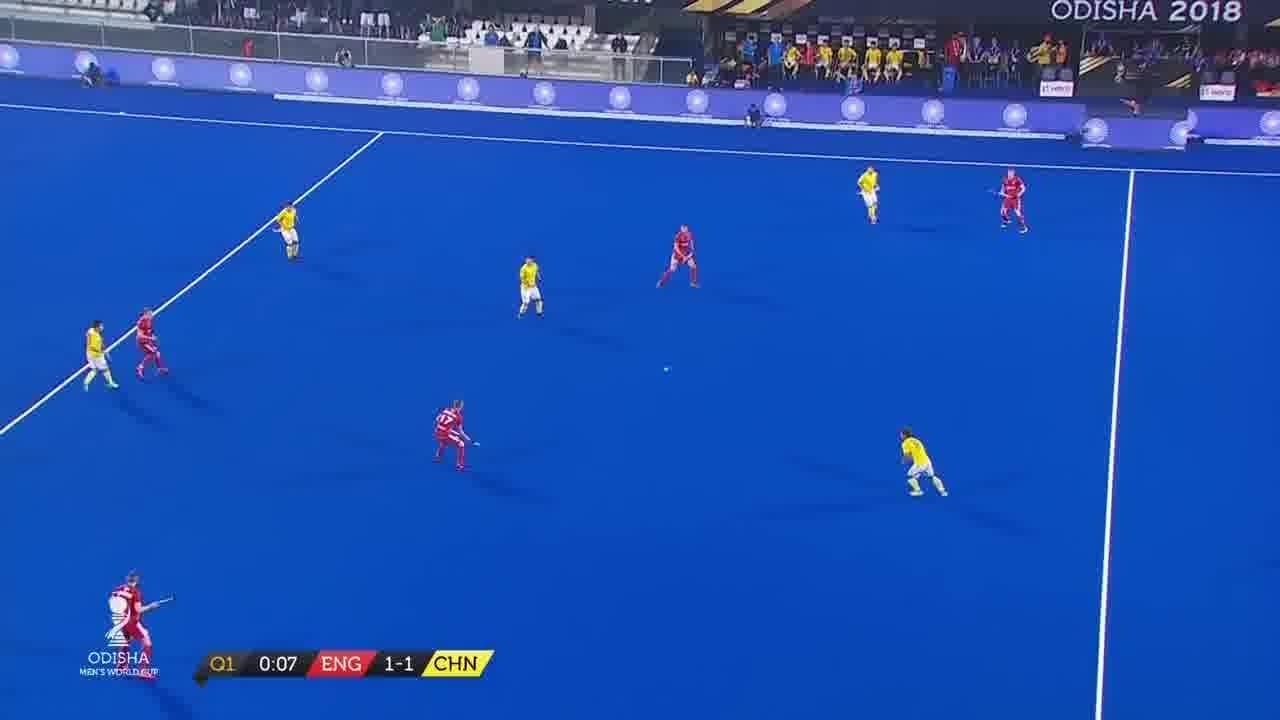ball: (659, 365, 674, 375)
